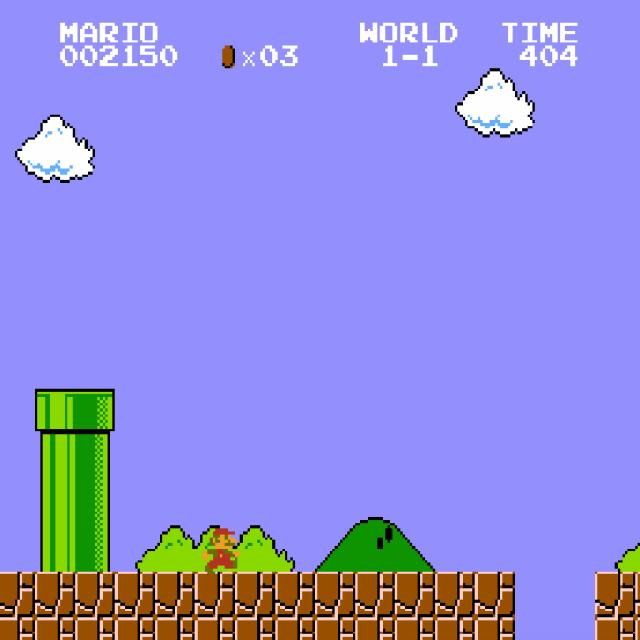little_mario: (200, 526, 242, 574)
pipe: (35, 434, 75, 480), (35, 480, 75, 526), (75, 434, 115, 480), (75, 480, 115, 526), (35, 526, 75, 571), (75, 526, 115, 571)
pipe_head: (35, 389, 75, 434), (75, 389, 115, 434)
undestructible_block: (35, 572, 75, 617), (75, 572, 115, 617), (115, 572, 155, 617), (155, 572, 195, 617), (195, 572, 235, 617), (235, 572, 275, 617), (275, 572, 315, 617), (315, 572, 355, 617), (355, 572, 395, 617), (395, 572, 435, 617), (435, 572, 475, 617), (475, 572, 515, 617), (595, 572, 635, 617), (0, 572, 35, 617), (35, 617, 75, 640), (75, 617, 115, 640), (115, 617, 155, 640), (155, 617, 195, 640), (195, 617, 235, 640), (235, 617, 275, 640), (275, 617, 315, 640), (315, 617, 355, 640), (355, 617, 395, 640), (395, 617, 435, 640), (435, 617, 475, 640), (475, 617, 515, 640), (595, 617, 635, 640), (0, 617, 35, 640), (635, 572, 640, 617), (635, 617, 640, 640)
